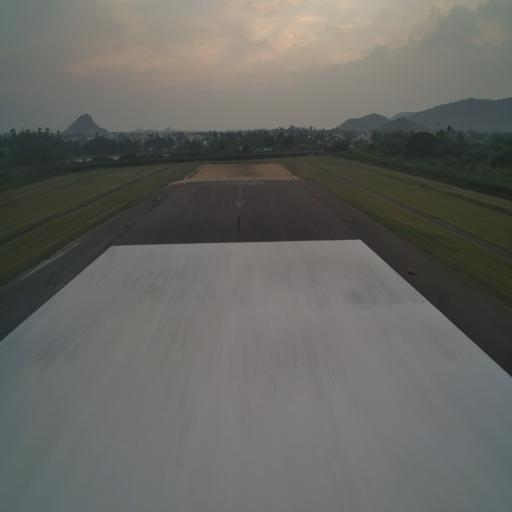on: (52, 274, 58, 286), (408, 264, 413, 274), (346, 214, 350, 222), (125, 220, 129, 226)
